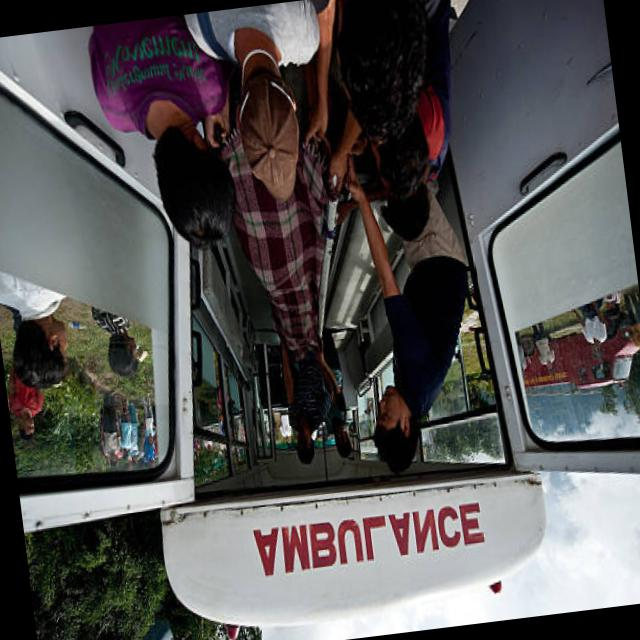ambulance: (243, 488, 492, 590)
